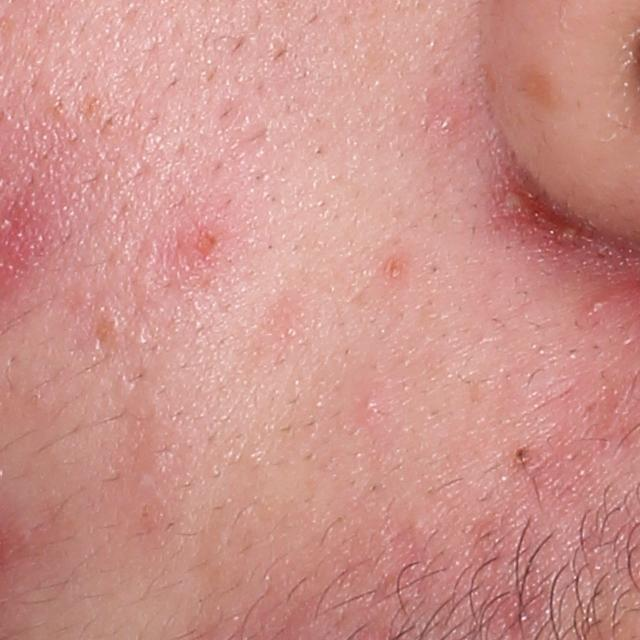pustule: (500, 184, 525, 212), (560, 221, 580, 244)
